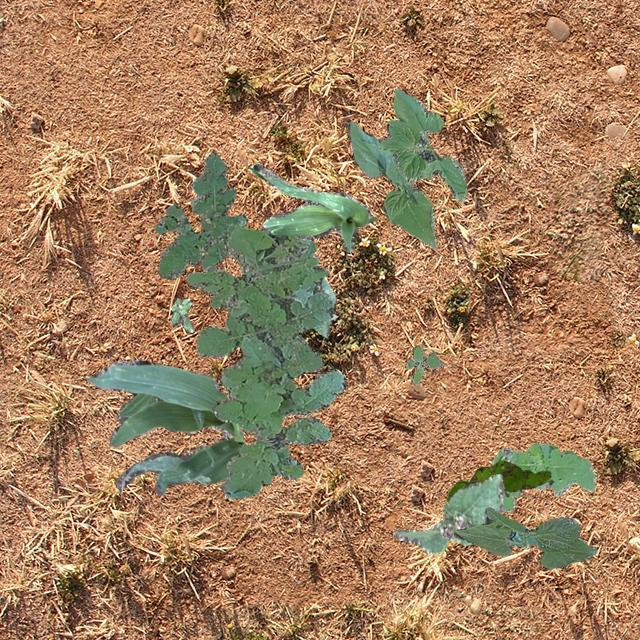crop: (83, 358, 244, 494), (346, 88, 466, 248), (248, 162, 376, 252), (452, 506, 596, 568), (392, 474, 503, 554), (313, 278, 337, 336)
weed: (184, 223, 344, 497), (154, 152, 246, 310), (492, 442, 596, 512), (446, 460, 550, 500), (404, 344, 444, 384), (170, 296, 192, 332)
